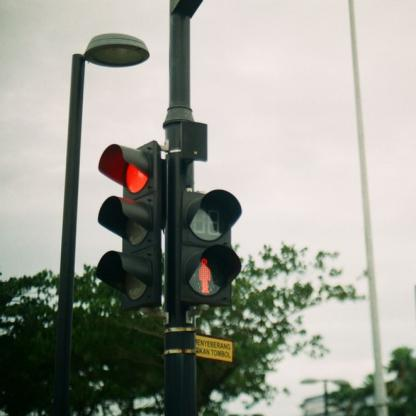red: (94, 143, 158, 301)
